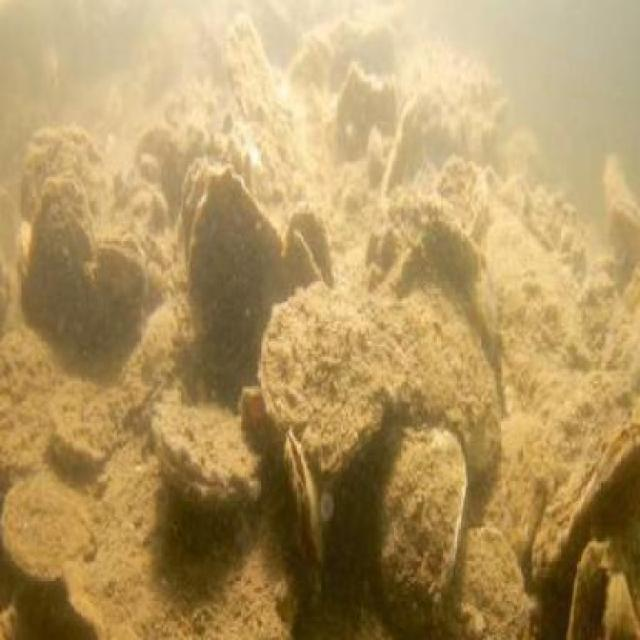Oyster-Closed: (549, 416, 640, 599), (154, 392, 266, 508), (24, 173, 98, 319), (74, 236, 149, 348), (286, 438, 329, 589), (613, 195, 640, 264)
Oyster-Indeterminate: (262, 282, 410, 472), (379, 276, 502, 470), (371, 424, 467, 618), (190, 167, 285, 350), (434, 523, 528, 640), (0, 461, 93, 576), (62, 531, 138, 631), (53, 376, 133, 461), (224, 18, 285, 129), (569, 538, 613, 640), (604, 566, 640, 640)
Oyster-Open: (287, 195, 337, 291)
